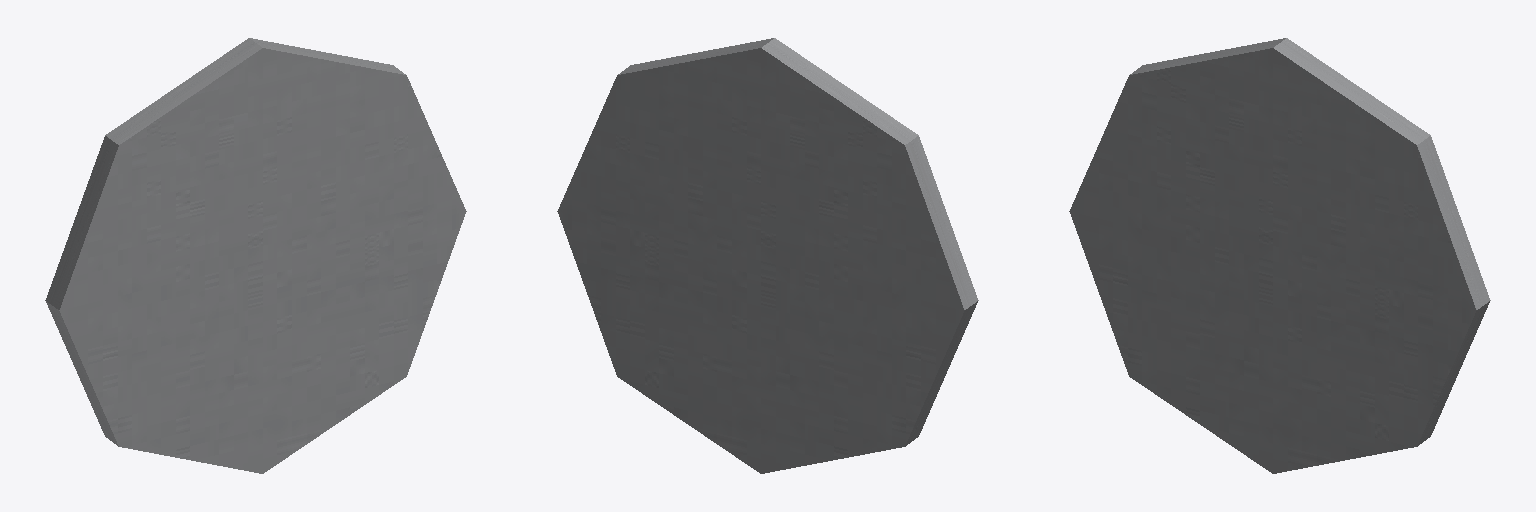
3 renders of one model, left to right at view 1: azimuth 30°, elevation 25°; view 2: azimuth 150°, elevation 25°; view 3: azimuth 330°, elevation 25°, orthographic.
Visible parts, largest first — view 1: toon_train.001; view 2: toon_train.001; view 3: toon_train.001.
Part boxes in pixels (x1,y1,x2,y2): toon_train.001: (45,38,466,473); toon_train.001: (557,38,978,473); toon_train.001: (1069,38,1490,473).
Size of the model in its own units: 1.91 by 1.91 by 0.1126.
Materials: 1 (1 with a texture image).